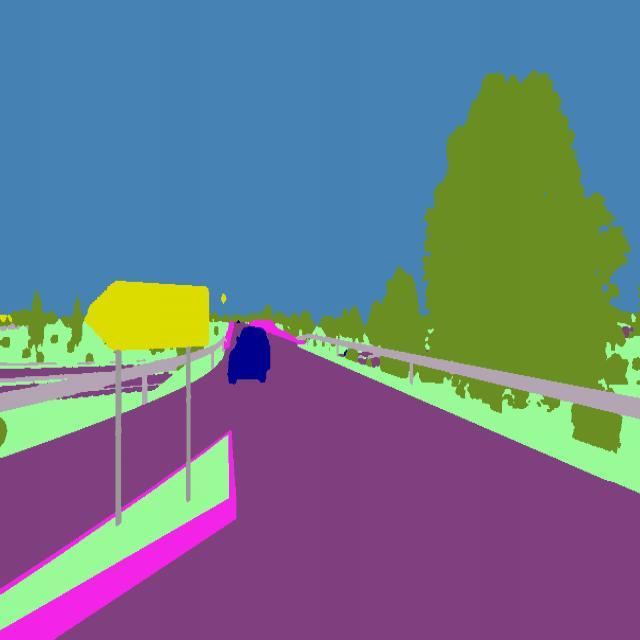safe: (225, 320, 273, 390)
